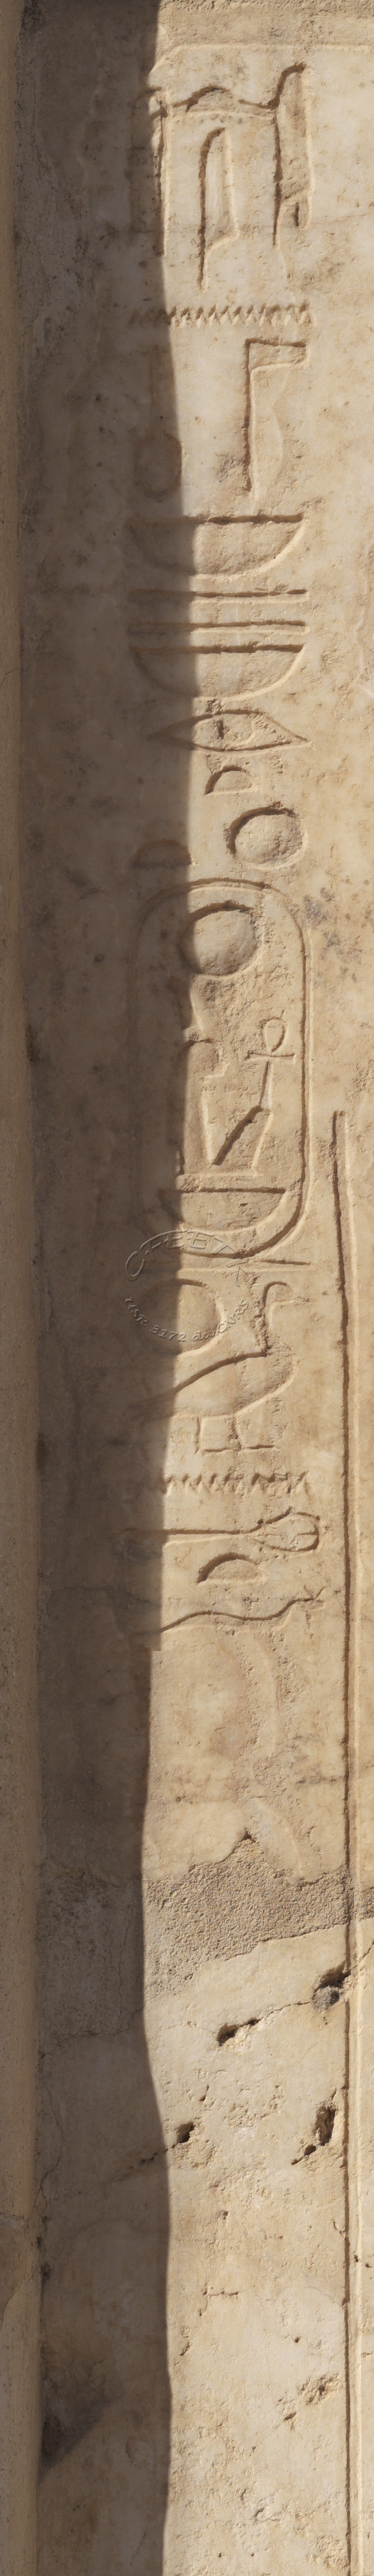D4: (138, 706, 325, 761)
F35: (130, 342, 194, 506)
M17: (262, 61, 331, 258), (187, 125, 258, 299)
N35: (120, 296, 328, 338), (125, 1465, 322, 1505)
V30: (118, 508, 322, 585), (118, 637, 313, 703), (149, 1181, 292, 1235)
